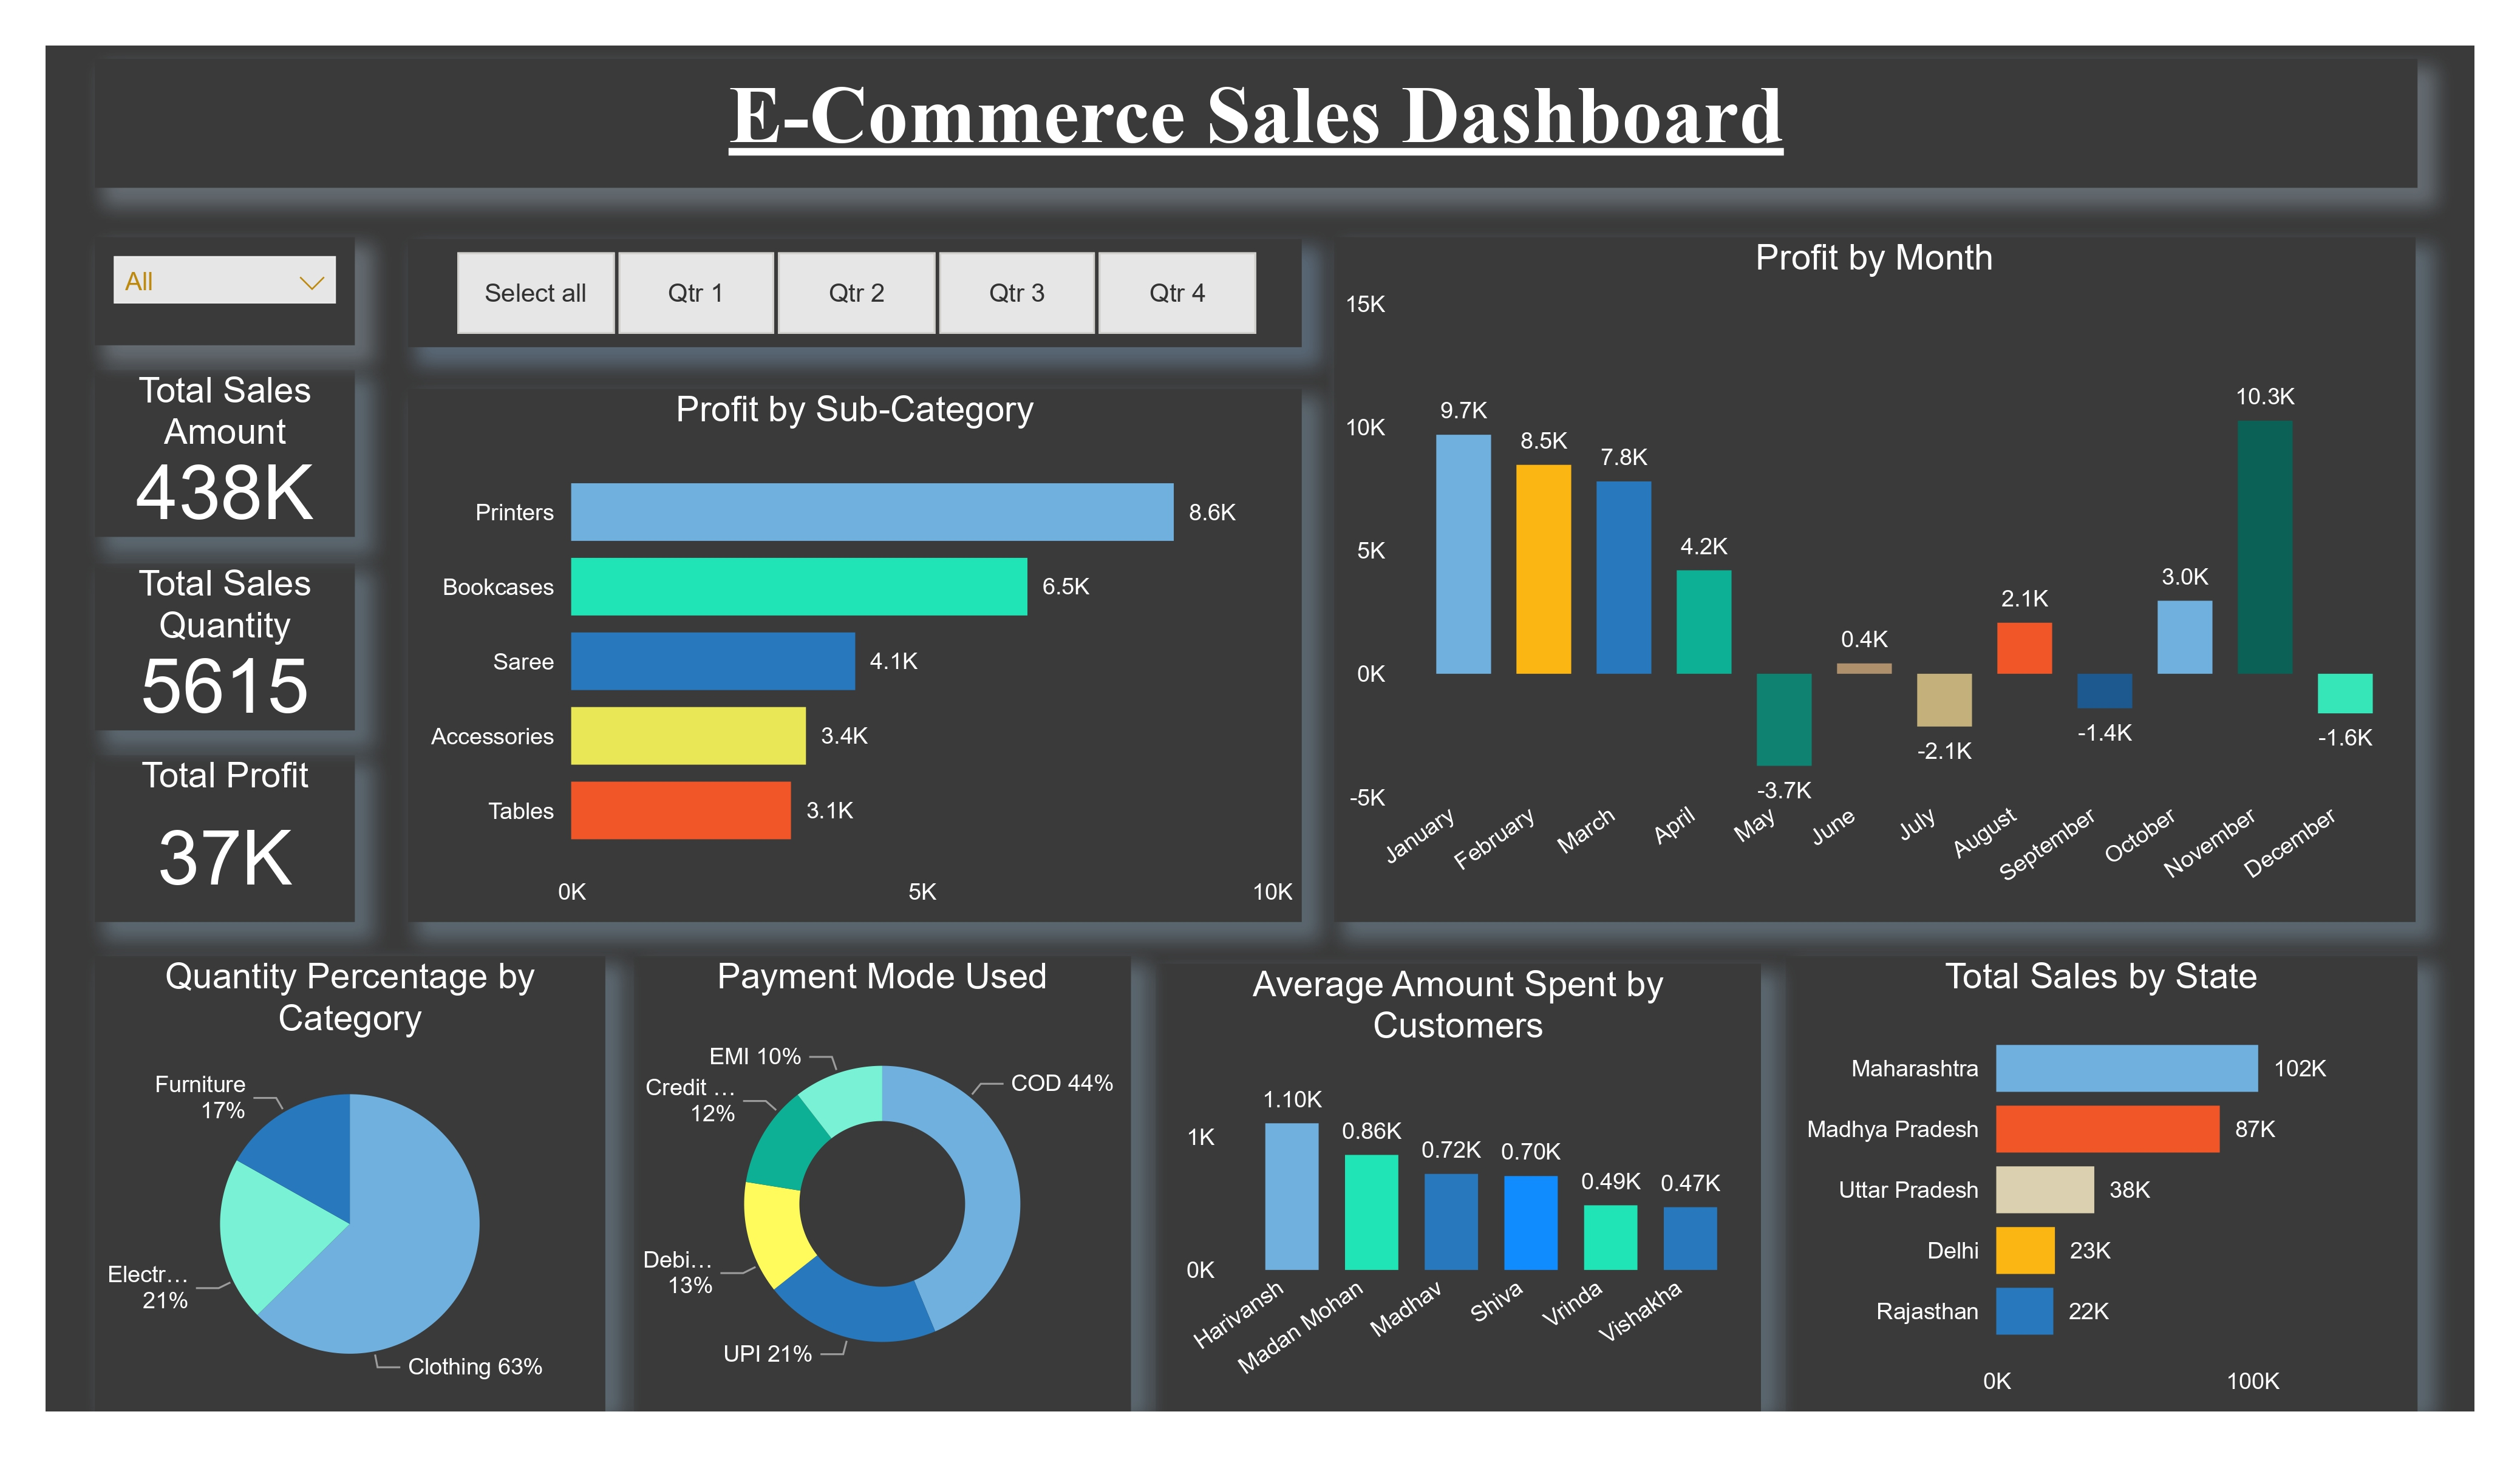

The page's visual inventory and layout, read from the dashboard file:
{"tool":"powerbi","page":{"name":"Page-1","canvas":[1280,720],"ordinal":0},"visuals":[{"type":"card","title":"Total Sales Amount","fields":{"Values":["Sum(Details.Amount)"]},"box":[26,171.4,137.1,87.7],"z":0},{"type":"card","title":"Total Sales Quantity","fields":{"Values":["Sum(Details.Quantity)"]},"box":[26,272.8,137.1,87.7],"z":1000},{"type":"card","title":"Total Profit","fields":{"Values":["Sum(Details.Profit)"]},"box":[26,374.3,137.1,87.7],"z":2000},{"type":"columnChart","title":"Profit by Month","fields":{"Category":["Orders.Order Date.Variation.Date Hierarchy.Month"],"Y":["Sum(Details.Profit)"]},"box":[678.7,101.5,570.4,360.6],"z":3000},{"type":"barChart","title":"Profit by Sub-Category","fields":{"Category":["Details.Sub-Category"],"Y":["Sum(Details.Profit)"]},"box":[190.6,181.3,471.8,281.2],"z":4000},{"type":"pieChart","title":"Quantity Percentage by Category","fields":{"Category":["Details.Category"],"Y":["Sum(Details.Quantity)"]},"box":[26,479.9,268.7,239.9],"z":5000},{"type":"donutChart","title":"Payment Mode Used","fields":{"Category":["Details.PaymentMode"],"Y":["Sum(Details.Quantity)"]},"box":[309.9,479.9,261.9,239.9],"z":6000},{"type":"barChart","title":"Total Sales by State","fields":{"Category":["Orders.State"],"Y":["Sum(Details.Amount)"]},"box":[917.2,479.9,333.2,239.9],"z":7000},{"type":"columnChart","title":"Average Amount Spent by Customers","fields":{"Y":["Avg(Details.Amount)"],"Category":["Orders.CustomerName"]},"box":[585.4,484,318.1,235.8],"z":8000},{"type":"slicer","fields":{"Values":["Orders.Order Date.Variation.Date Hierarchy.Quarter"]},"box":[190.6,102.3,471.8,56.9],"z":9000},{"type":"slicer","fields":{"Values":["Orders.State"]},"box":[25.6,101.1,137.1,56.9],"z":10000},{"type":"textbox","box":[26,6.9,1224.3,68.6],"z":11000}]}

Visuals, with their boxes on the page's 1280x720 design canvas (x1, y1, x2, y2). These are canvas units, not pixel positions in the 2520x1457 screenshot, which may show the page scaled, cropped or inside an application window:
"Total Sales Amount" card: BBox(26, 171, 163, 259)
"Total Sales Quantity" card: BBox(26, 273, 163, 360)
"Total Profit" card: BBox(26, 374, 163, 462)
"Profit by Month" columnChart: BBox(679, 102, 1249, 462)
"Profit by Sub-Category" barChart: BBox(191, 181, 662, 462)
"Quantity Percentage by Category" pieChart: BBox(26, 480, 295, 720)
"Payment Mode Used" donutChart: BBox(310, 480, 572, 720)
"Total Sales by State" barChart: BBox(917, 480, 1250, 720)
"Average Amount Spent by Customers" columnChart: BBox(585, 484, 904, 720)
slicer - Orders.Order Date.Variation.Date Hierarchy.Quarter: BBox(191, 102, 662, 159)
slicer - Orders.State: BBox(26, 101, 163, 158)
textbox: BBox(26, 7, 1250, 76)
